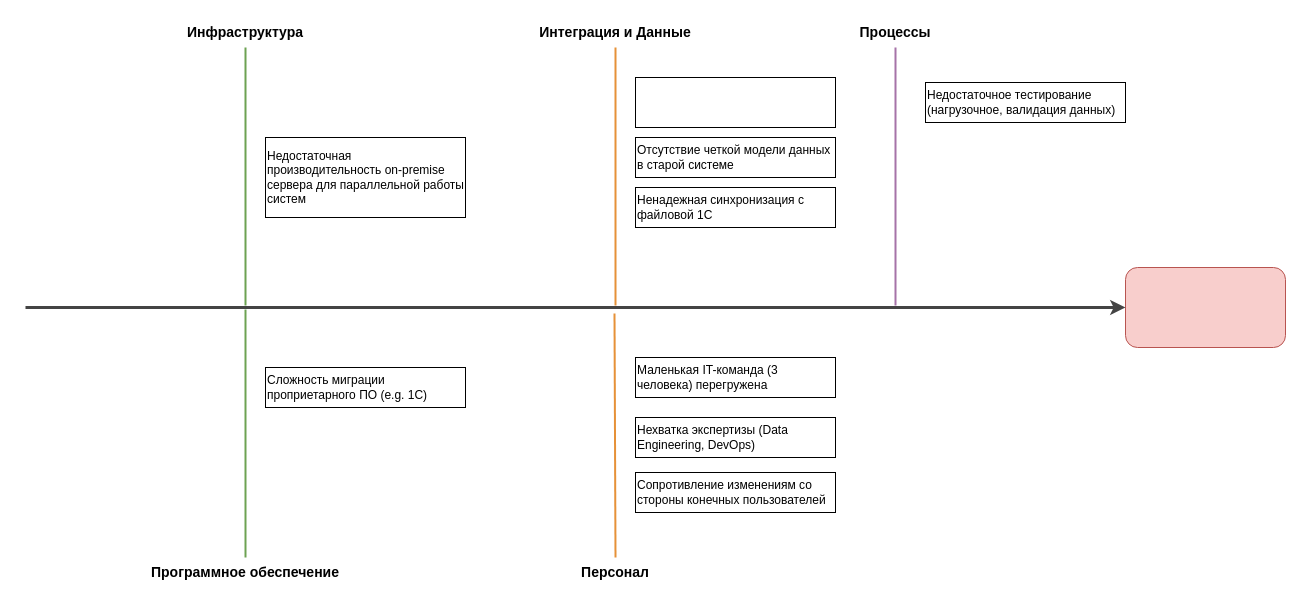
Image size: 1303x604. Some labels were removed from this diagram. The shapes that lost their labels are listed below. From the top down, each one's centre as x and y in pixels, then its label:
point 735,102: Сложность ETL из неуструктурированных Excel/сканов ("грязные данные")
point 1205,307: Риск узких мест при миграции на новую архитектуру
